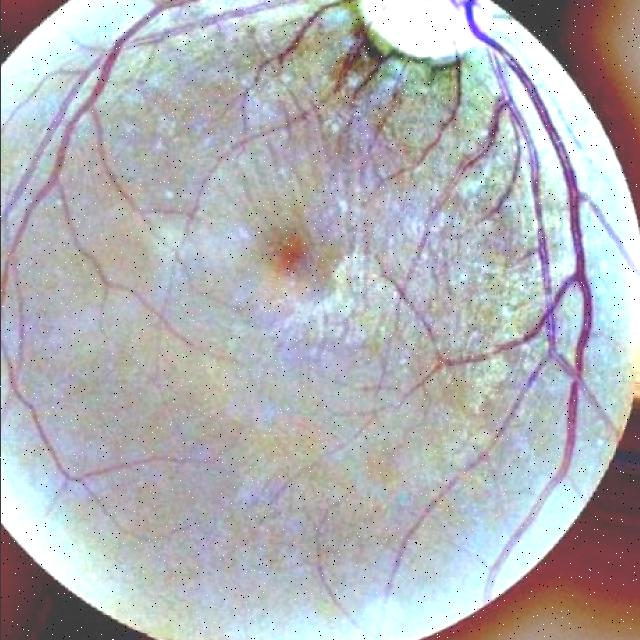Macula: (274, 234, 307, 274)
Nerves: (446, 0, 591, 352), (70, 0, 194, 121), (246, 0, 353, 90), (145, 0, 310, 42), (333, 21, 391, 92), (442, 38, 465, 124)
Optic Disk: (358, 0, 490, 63)
